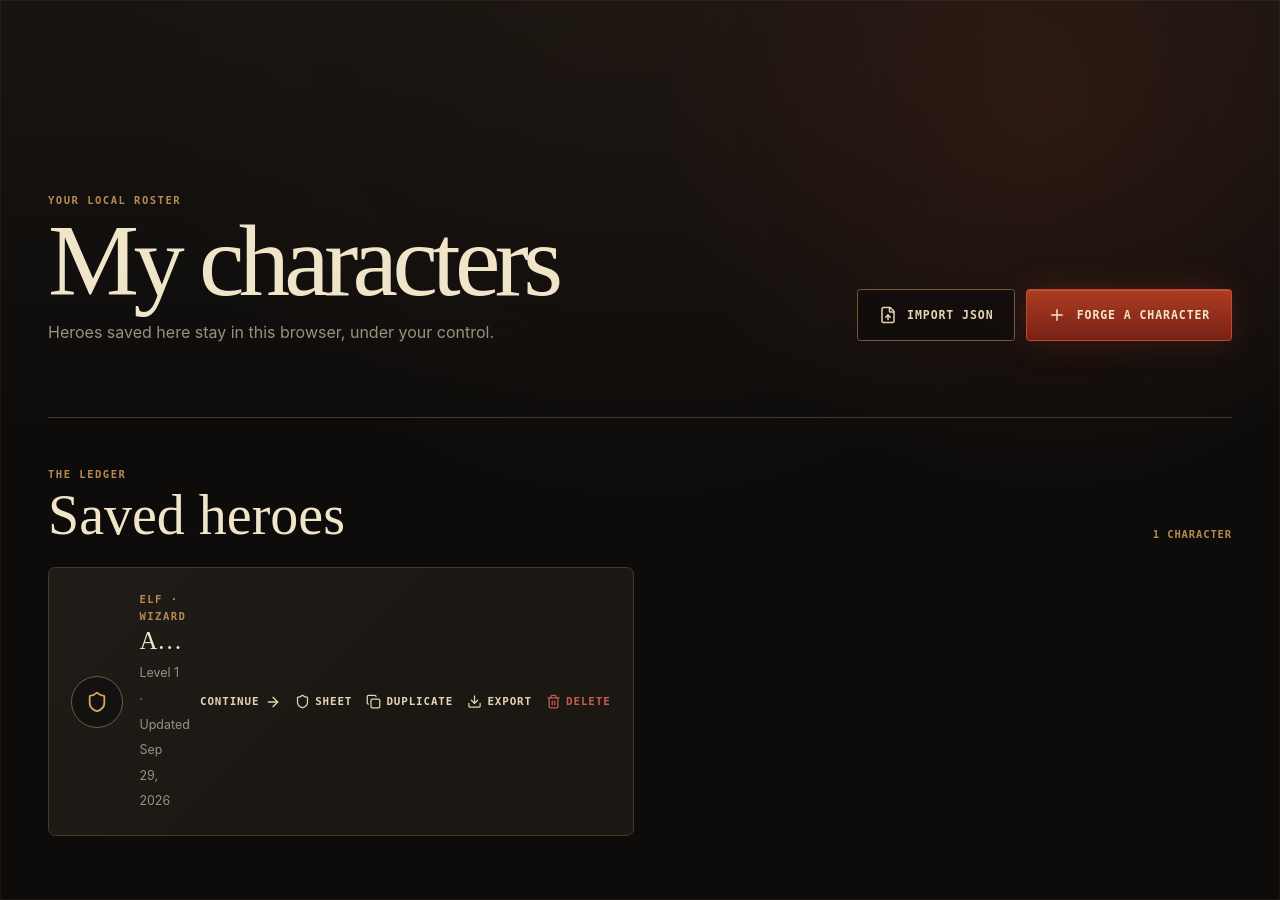
Test: MyCharactersPage › removes a confirmed character from storage and the roster cache
This screenshot has width=1280, height=900.
Click the button with aria-label "Delete Arannis": (578, 702) [546,694,611,709]
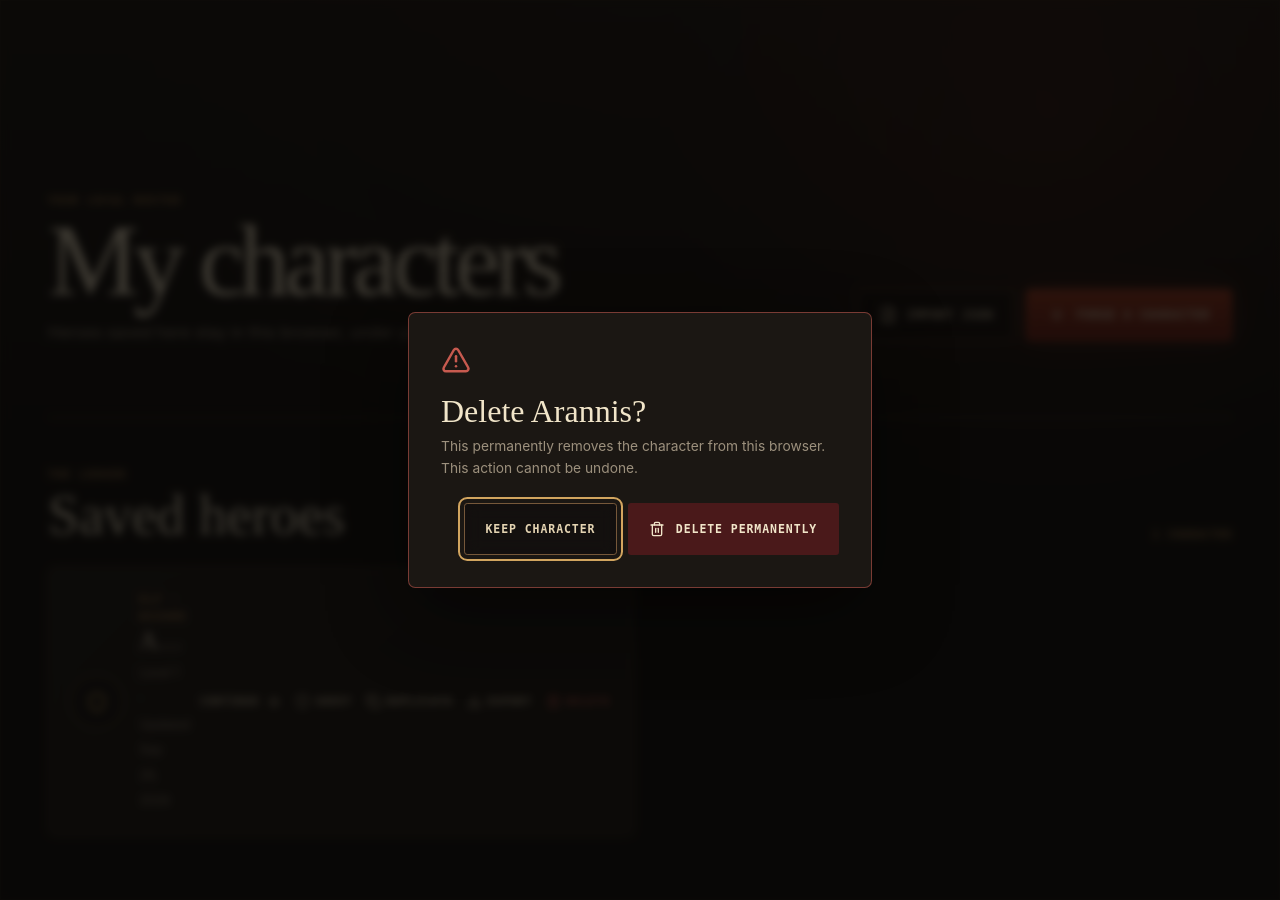
Click the button "Delete permanently": (733, 529) [628,503,839,555]
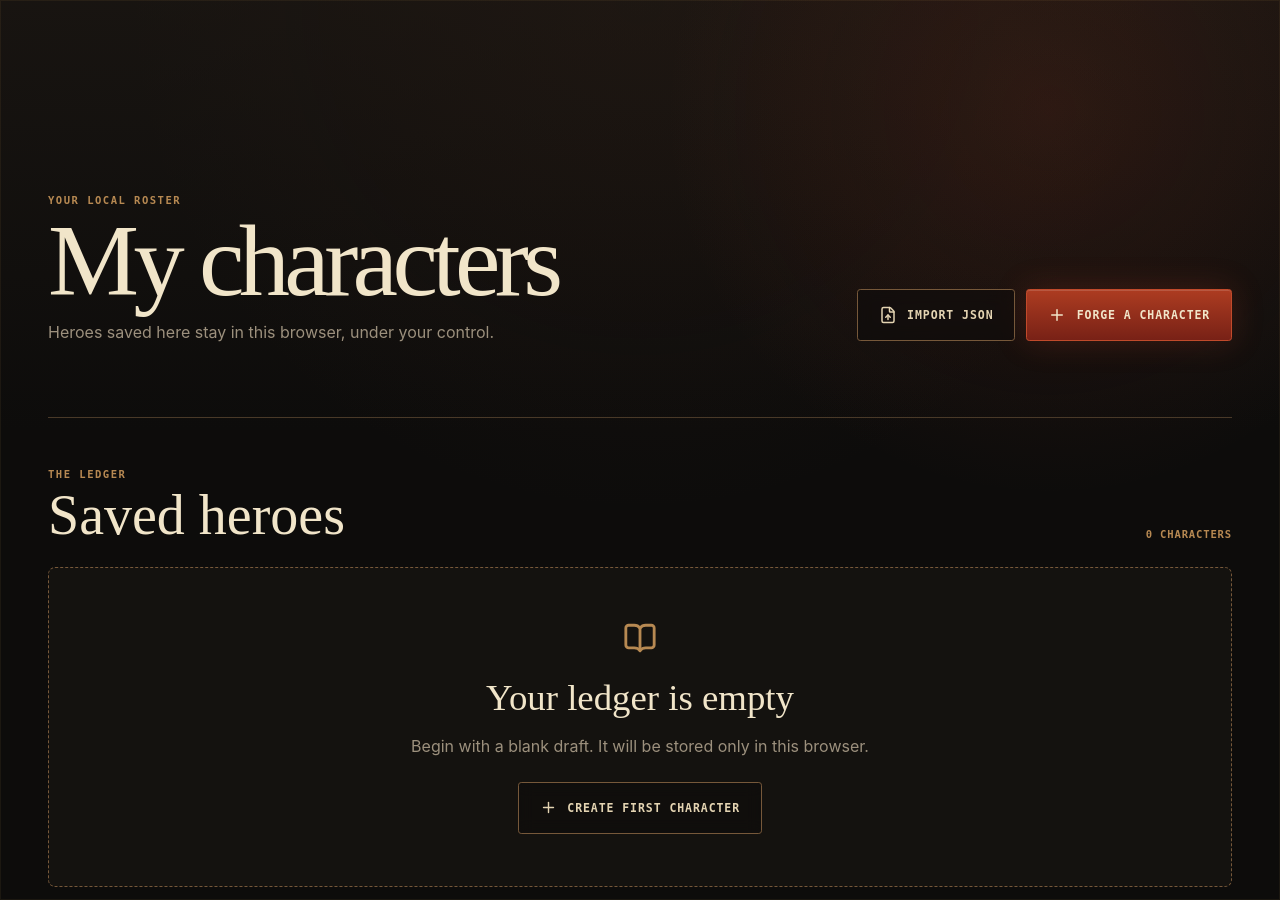
Expected: the heading "Your ledger is empty" is shown, [486,669,794,728]
Expected: the dialog is gone
